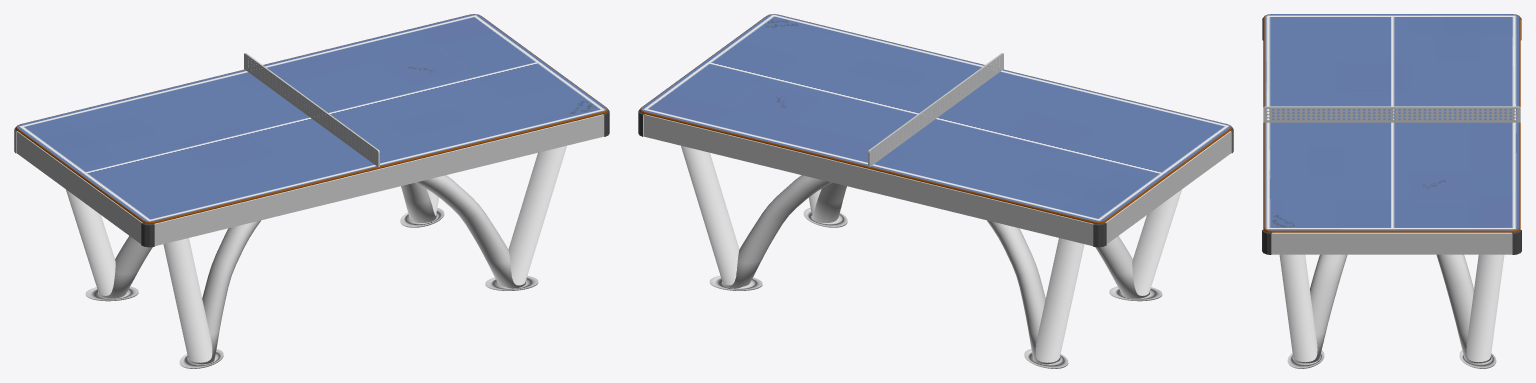
File: tabletennis_high.glb
3 renders of one model, left to right at view 1: azimuth 30°, elevation 25°; view 2: azimuth 150°, elevation 25°; view 3: azimuth 270°, elevation 25°, orthographic. The views are drawn at different scales.
Parts seen in each view (by area): view 1: Table, Legs, LegSupports, Net; view 2: Table, Legs, LegSupports, Net; view 3: Table, Legs, LegSupports, Net.
Boxes of the visible parts, left/top/right/bottom form: Table: left=14, top=14, right=609, bottom=247; Legs: left=66, top=145, right=566, bottom=368; LegSupports: left=98, top=175, right=525, bottom=364; Net: left=244, top=53, right=379, bottom=167; Table: left=638, top=14, right=1233, bottom=247; Legs: left=681, top=145, right=1181, bottom=368; LegSupports: left=722, top=175, right=1149, bottom=364; Net: left=868, top=53, right=1003, bottom=167; Table: left=1262, top=14, right=1521, bottom=254; Legs: left=1279, top=254, right=1504, bottom=368; LegSupports: left=1292, top=254, right=1491, bottom=363; Net: left=1263, top=106, right=1520, bottom=122.
Size of the model in its own units: 6.03 by 2.3 by 3.03.
4 materials, 1 textured.
